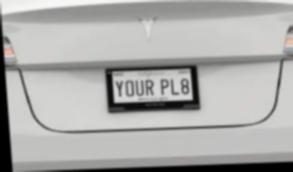License_Plate: (112, 69, 194, 102)
